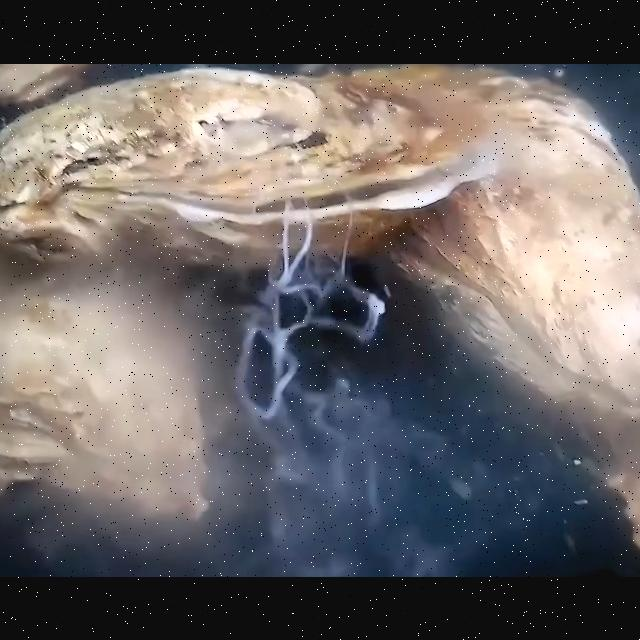Oyster-Closed: (352, 64, 638, 420), (0, 276, 208, 522)
Oyster-Open: (1, 65, 500, 271), (0, 63, 80, 103)
